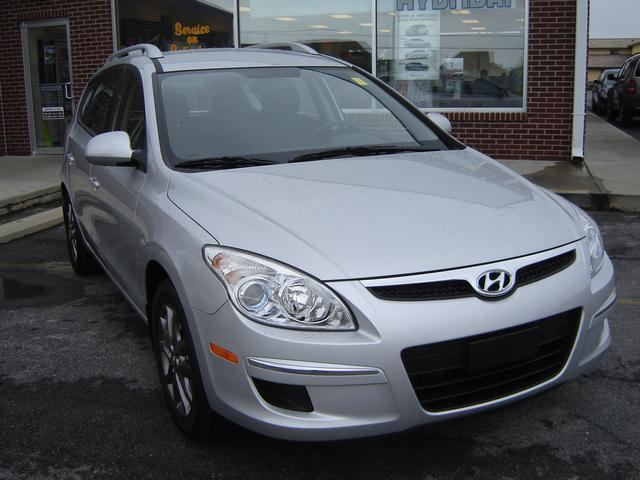car: (63, 41, 619, 439)
